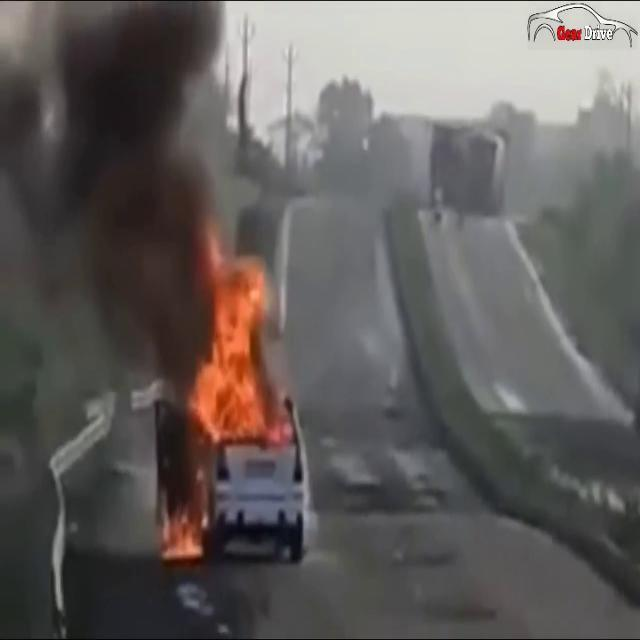Fire: (187, 228, 289, 452), (154, 511, 206, 562)
Smoke: (0, 1, 228, 390)
